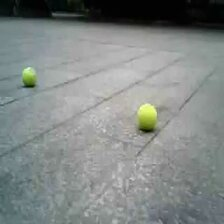tennis: (137, 104, 157, 129), (22, 67, 37, 85)
